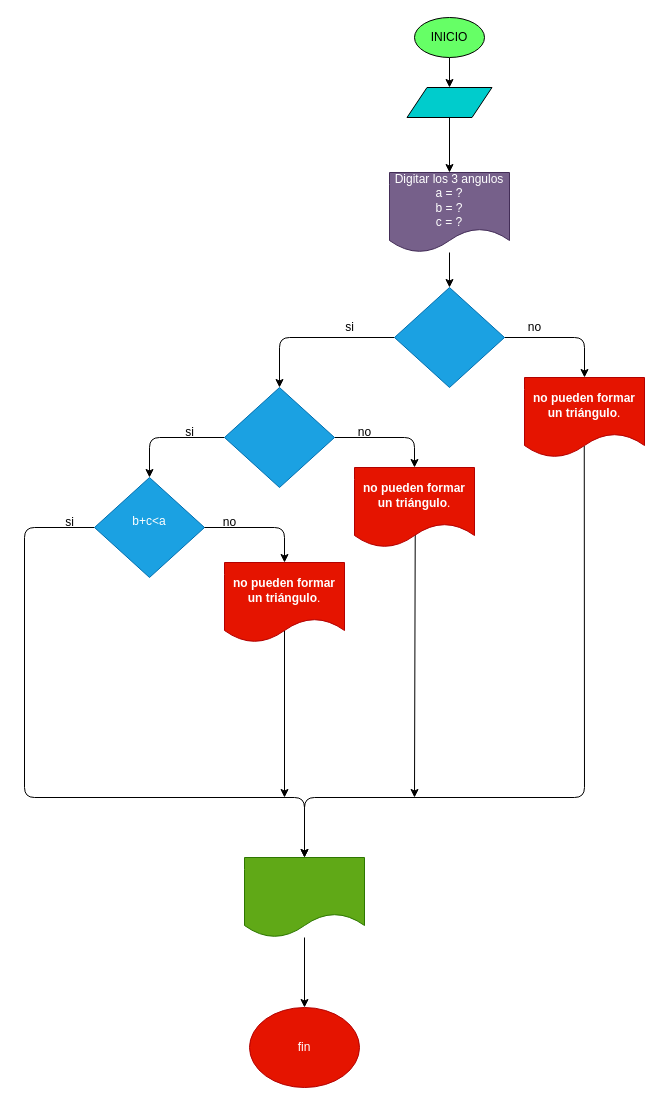
Image size: 662x1105. Some labels were removed from this diagram. Here are the shapes that lost their labels. From the top down, the centre of each, then its label:
point (449, 102): a, b, c
point (449, 337): a + b< c
point (279, 437): a + c< b
point (304, 897): respuesta
